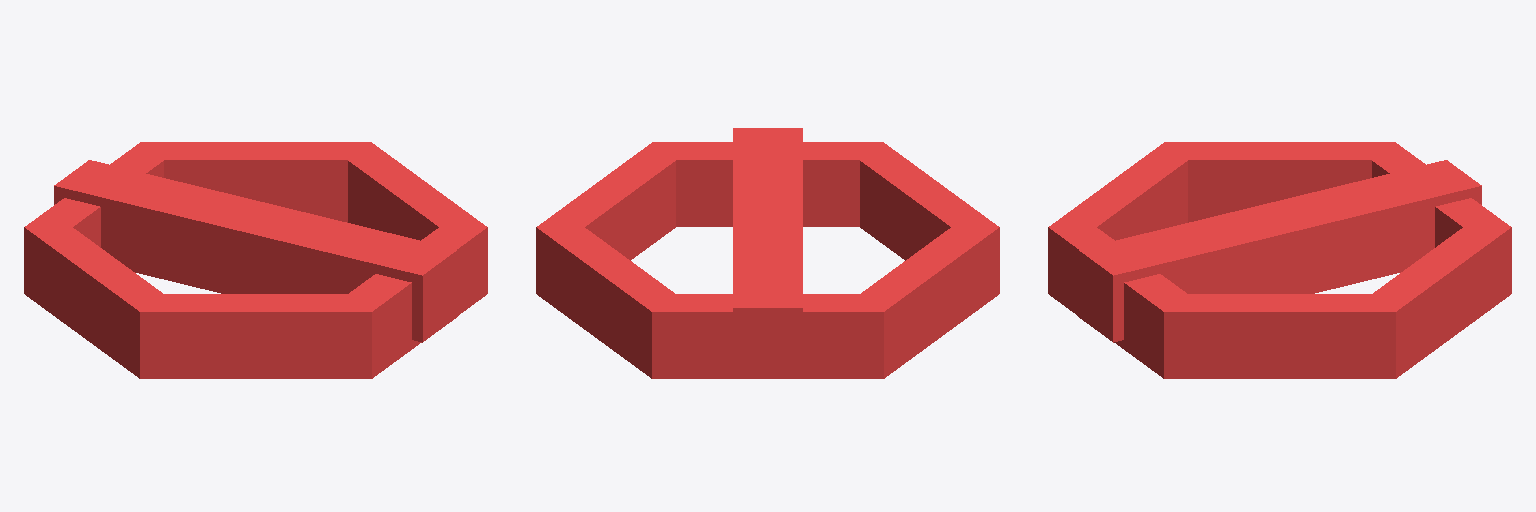
Rendered from autotiled_rule_tile_not.obj.
3 views of the same model, side by side, from view 1: azimuth 30°, elevation 25°; view 2: azimuth 150°, elevation 25°; view 3: azimuth 270°, elevation 25° (orthographic).
Visible parts, largest first — view 1: Cylinder, Cube; view 2: Cylinder, Cube; view 3: Cylinder, Cube.
Part boxes in pixels (x1,y1,x2,y2): Cylinder: (24,142,487,378); Cube: (54,160,457,342); Cylinder: (536,142,999,378); Cube: (733,128,802,374); Cylinder: (1048,142,1511,378); Cube: (1078,160,1481,342).
Bounding box in the file's own units: 1.63 × 0.3426 × 1.88.